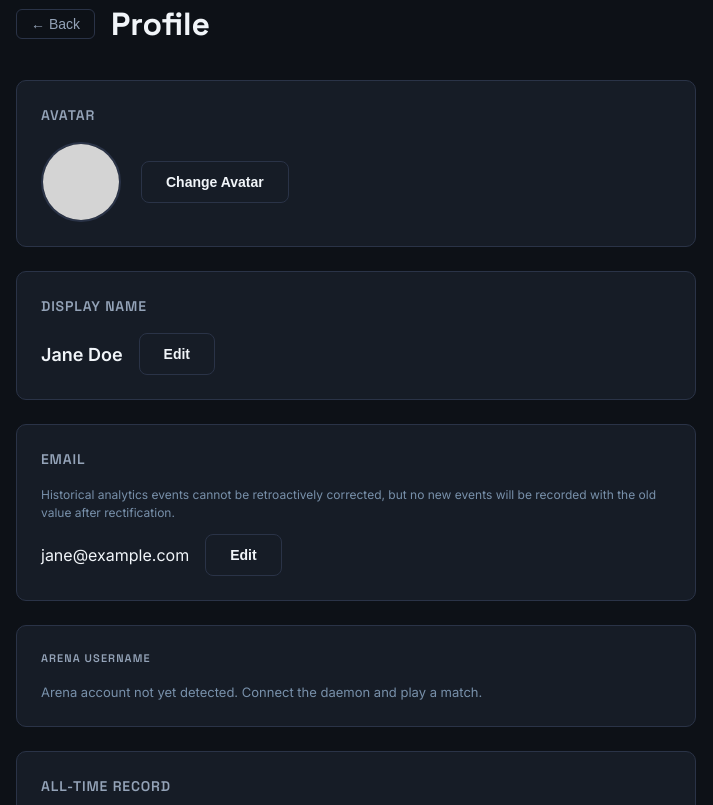
Scenario: Profile — display name editing (AC2) › returns to display mode after successful save
Click the button with test id "profile-edit-name-button": (177, 354) [139, 333, 215, 375]
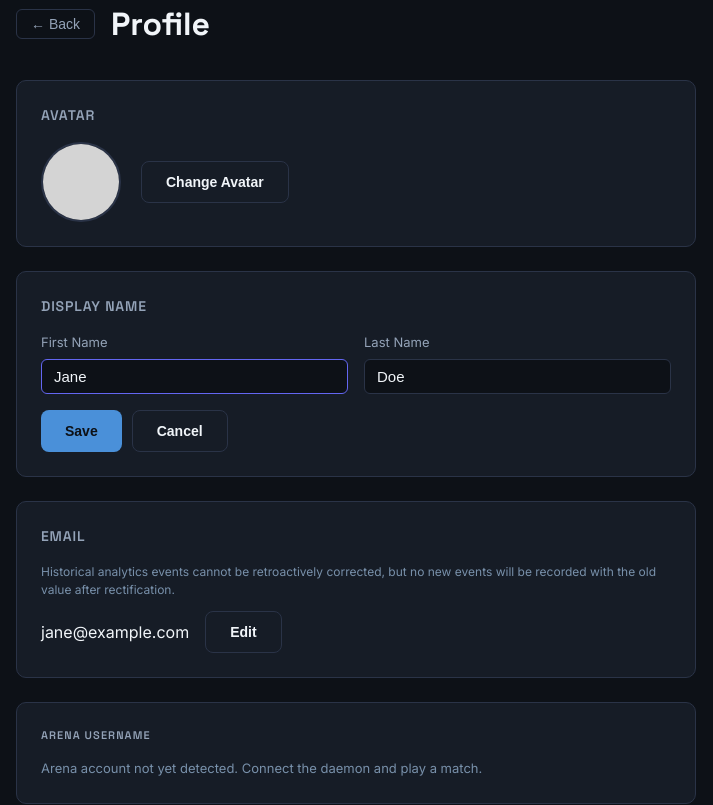
Click the button with test id "profile-save-name-button": (81, 430) [41, 410, 122, 452]
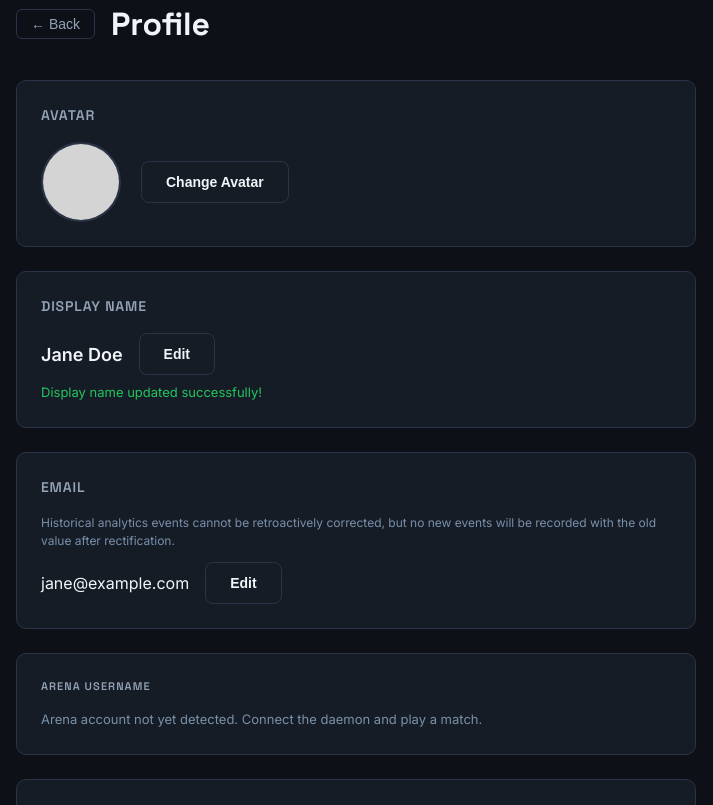
Now the element with test id "profile-name-display" showing "Jane Doe Edit" is shown, box [41, 333, 215, 375]
